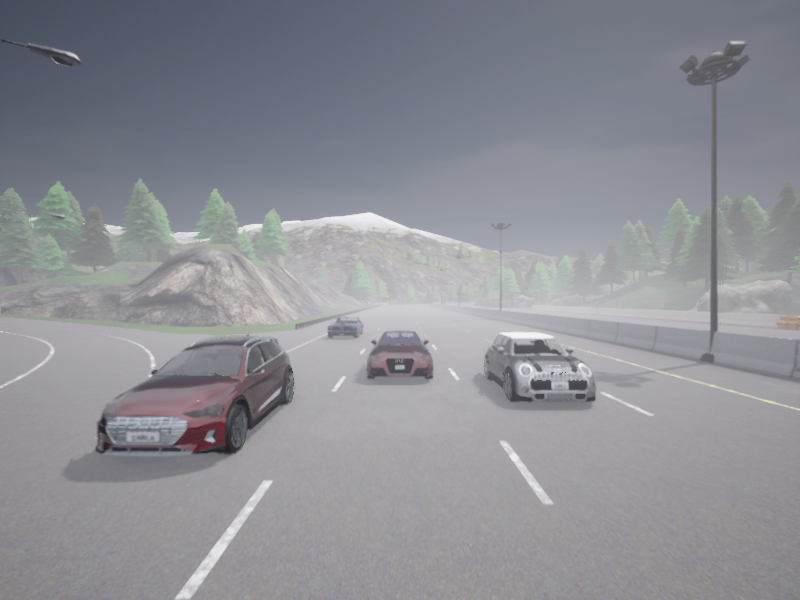vehicle: (95, 333, 293, 456), (484, 333, 595, 401), (366, 330, 433, 379), (327, 316, 363, 338), (440, 302, 444, 304)
